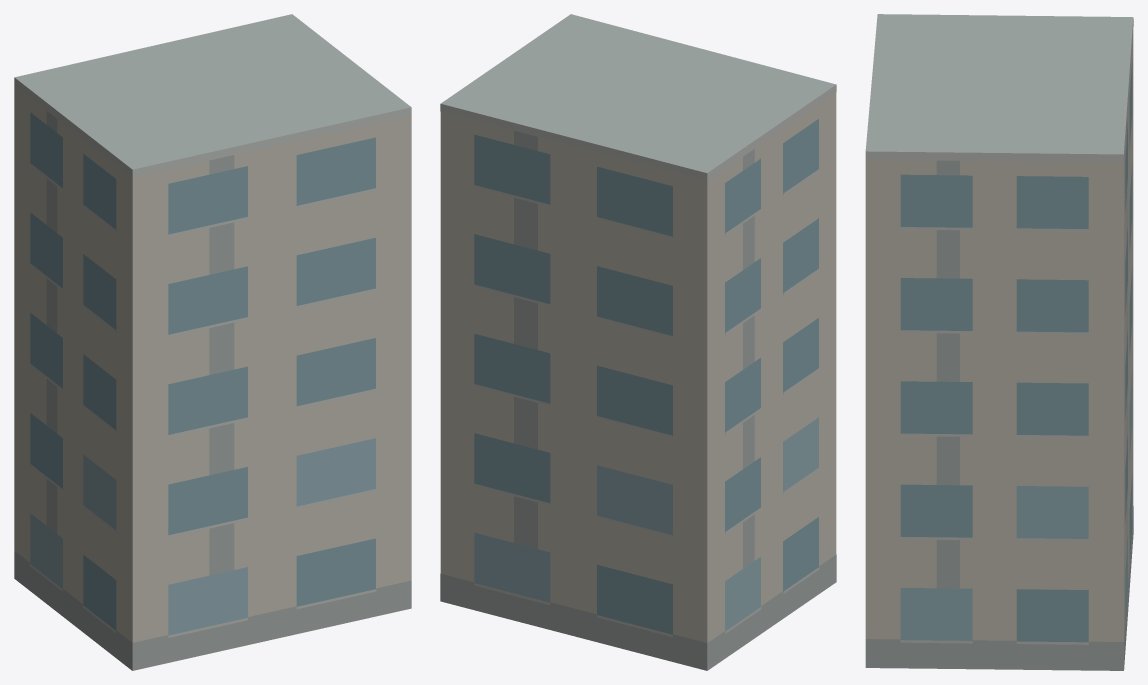
File: survey-upis-32822000.glb
3 views of the same model, side by side, from view 1: azimuth 30°, elevation 25°; view 2: azimuth 150°, elevation 25°; view 3: azimuth 270°, elevation 25° (orthographic). The views are drawn at different scales.
Visible parts, largest first — view 1: survey-upis-32822000.tmp; view 2: survey-upis-32822000.tmp; view 3: survey-upis-32822000.tmp.
Boxes of the visible parts, bbox=[...] form: survey-upis-32822000.tmp: bbox=[14, 14, 411, 670]; survey-upis-32822000.tmp: bbox=[440, 14, 836, 670]; survey-upis-32822000.tmp: bbox=[865, 14, 1133, 670].
Size of the model in its own units: 8.9 by 15.25 by 7.18.
